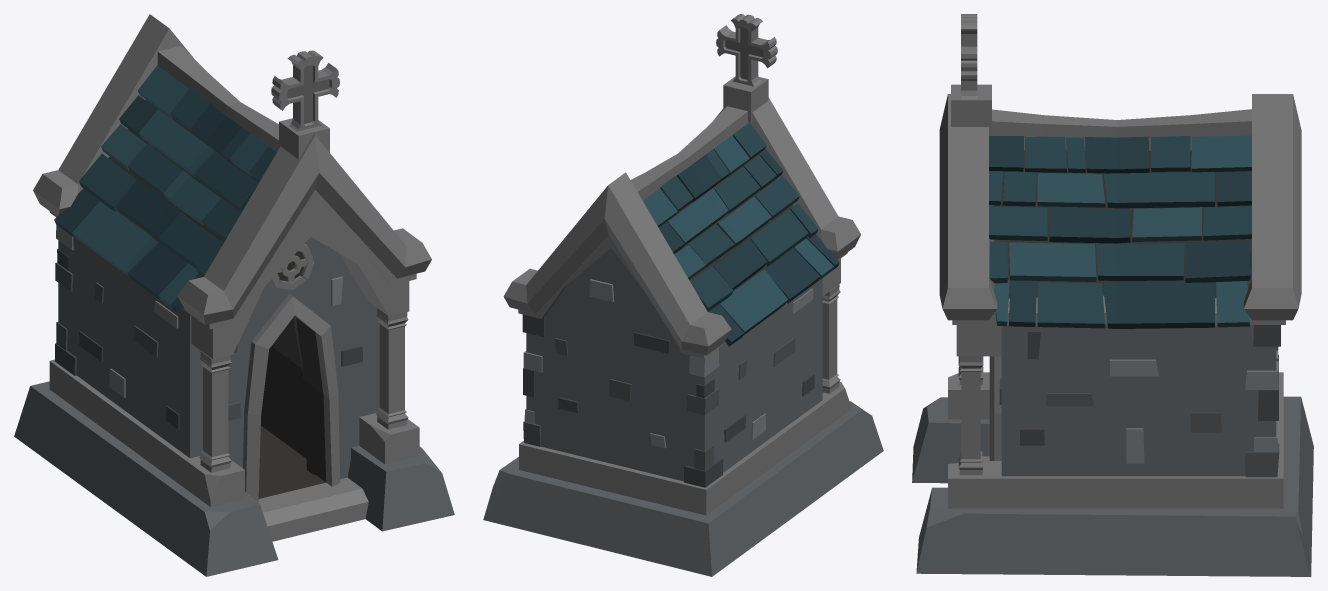
The model's file is Large_Crypt_Export.FBX.
3 views of the same model, side by side, from view 1: azimuth 30°, elevation 25°; view 2: azimuth 150°, elevation 25°; view 3: azimuth 270°, elevation 25° (orthographic). The views are drawn at different scales.
Visible parts, largest first — view 1: Large_Crypt; view 2: Large_Crypt; view 3: Large_Crypt.
Boxes of the visible parts, x1,y1,x2,y2 form: Large_Crypt: (14,14,454,576); Large_Crypt: (483,14,883,576); Large_Crypt: (912,14,1313,576).
Size of the model in its own units: 267 by 470 by 347.
Materials: 1 (1 with a texture image).
